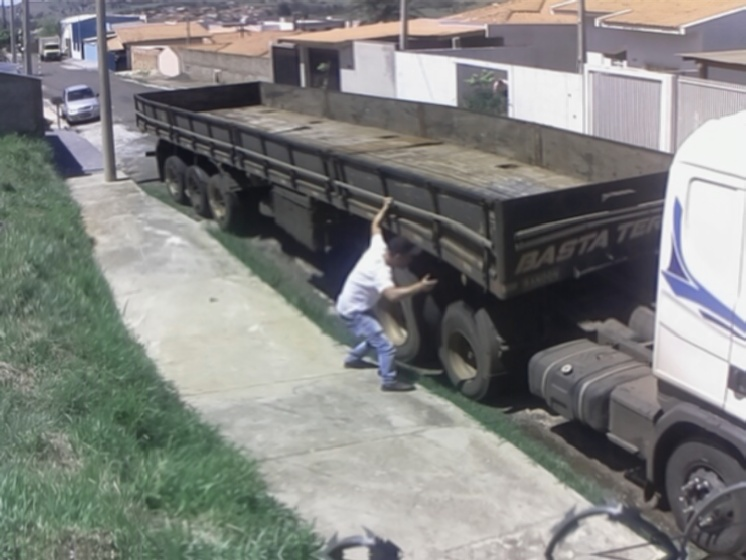person: (335, 195, 438, 395)
